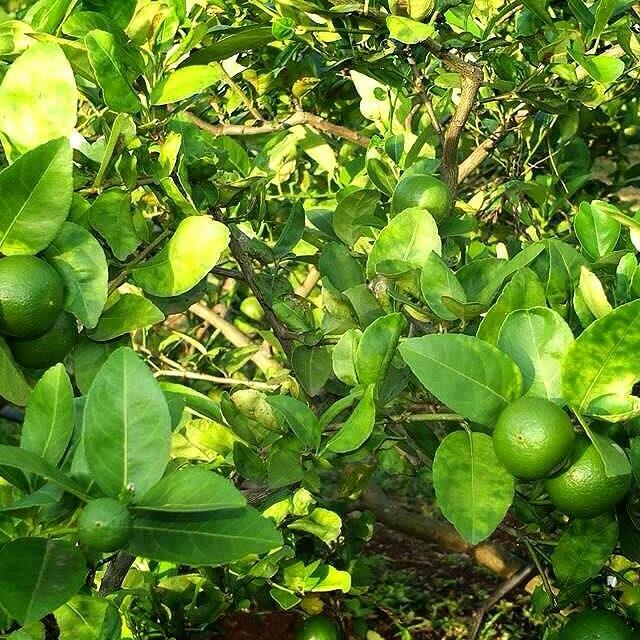lime: (534, 430, 640, 522), (490, 392, 576, 492), (60, 486, 150, 576), (0, 240, 70, 346), (384, 164, 462, 240), (542, 602, 640, 640), (288, 612, 352, 640)
